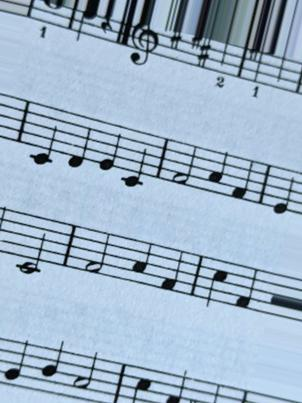note: (28, 97, 59, 172), (121, 121, 150, 194), (3, 333, 31, 398), (200, 252, 229, 312), (129, 234, 156, 295), (38, 337, 65, 398), (96, 115, 122, 176), (67, 109, 92, 172), (229, 150, 256, 208), (157, 241, 184, 298), (232, 258, 259, 314), (204, 144, 230, 200), (273, 162, 296, 221)
